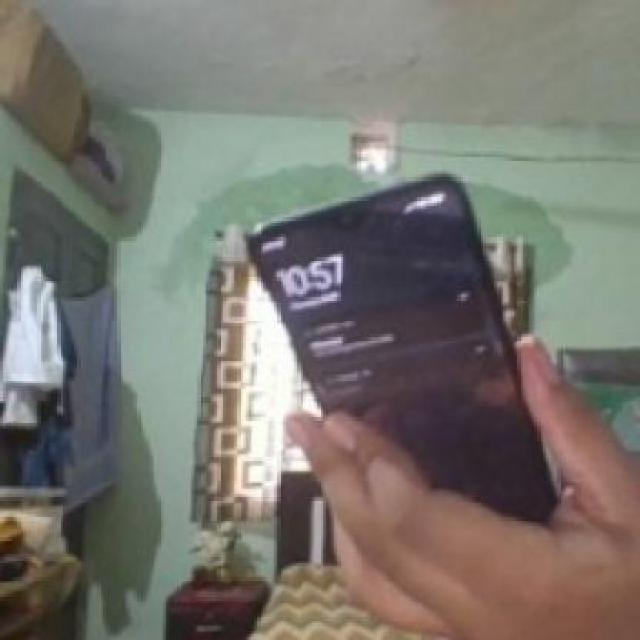Phone: (239, 166, 566, 529)
